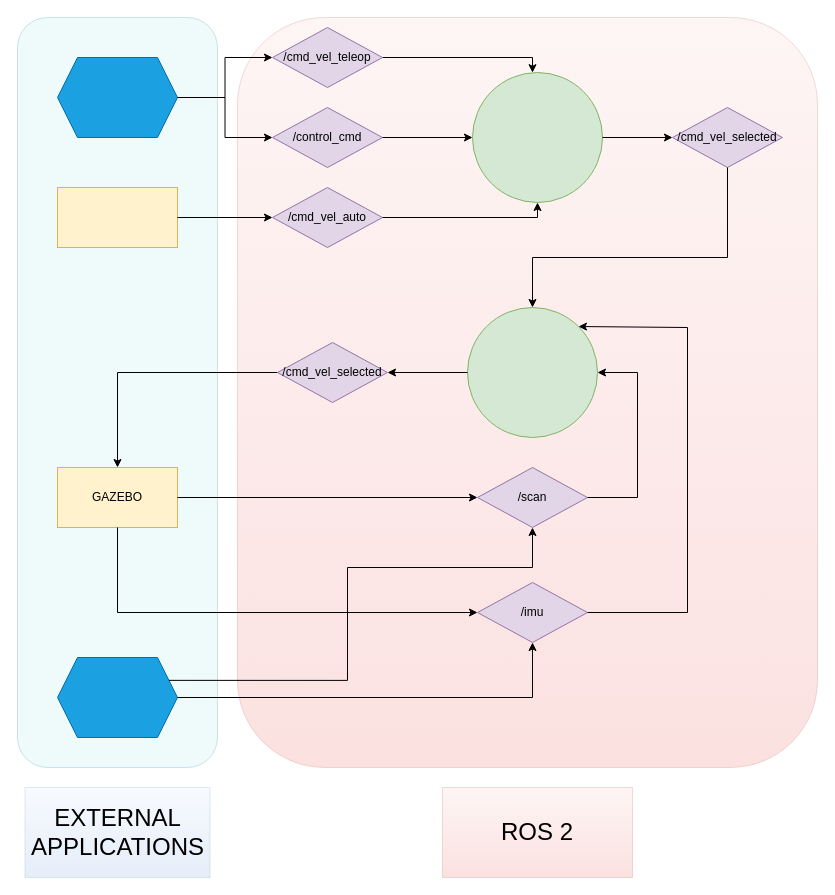
The diagram is 835 pixels wide and 895 high, and some of its shapes have lost their labels. The shapes that lost their labels are listed below. From the top down, each one's centre as x and y in pixels, then its label:
the point at 117,97: MANUAL CONTROLLER
the point at 537,137: control_mode_manager
the point at 117,217: NAV2
the point at 532,372: monitor_safety
the point at 117,697: MOBILE ROBOT
